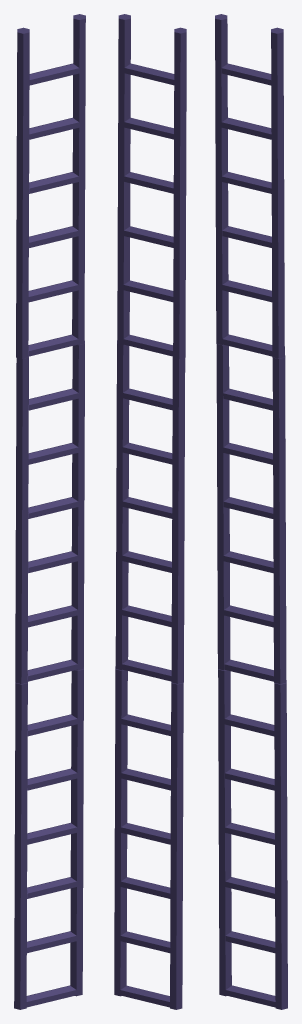
Rendered from LadderLong.fbx.
3 renders of one model, left to right at view 1: azimuth 30°, elevation 25°; view 2: azimuth 150°, elevation 25°; view 3: azimuth 330°, elevation 25°, orthographic.
Parts seen in each view (by area): view 1: ladder_piece(Clone).013, ladder_piece(Clone).008, ladder_piece(Clone).015, ladder_piece(Clone).004, ladder_piece(Clone).005, ladder_piece(Clone).011, ladder_piece(Clone).009, ladder_piece(Clone).016, ladder_piece(Clone).014, ladder_piece(Clone).006, ladder_piece(Clone).007, ladder_piece(Clone).010 (+24 smaller); view 2: ladder_piece(Clone).013, ladder_piece(Clone).012, ladder_piece(Clone).016, ladder_piece(Clone).009, ladder_piece(Clone).005, ladder_piece(Clone).015, ladder_piece(Clone).008, ladder_piece(Clone).011, ladder_piece(Clone).001, ladder_piece(Clone).002, ladder_piece(Clone).007, ladder_piece(Clone).004 (+24 smaller); view 3: ladder_piece(Clone).013, ladder_piece(Clone).001, ladder_piece(Clone).016, ladder_piece(Clone).009, ladder_piece(Clone).012, ladder_piece(Clone).005, ladder_piece(Clone).015, ladder_piece(Clone).011, ladder_piece(Clone).008, ladder_piece(Clone).006, ladder_piece(Clone).010, ladder_piece(Clone).002 (+24 smaller).
Boxes of the visible parts, <box> form: ladder_piece(Clone).013: <box>17,14,85,87</box>; ladder_piece(Clone).008: <box>14,832,83,901</box>; ladder_piece(Clone).015: <box>16,127,85,196</box>; ladder_piece(Clone).004: <box>15,506,84,575</box>; ladder_piece(Clone).005: <box>15,560,84,629</box>; ladder_piece(Clone).011: <box>15,667,83,738</box>; ladder_piece(Clone).009: <box>14,778,83,847</box>; ladder_piece(Clone).016: <box>16,181,85,250</box>; ladder_piece(Clone).014: <box>16,73,85,142</box>; ladder_piece(Clone).006: <box>14,940,82,1009</box>; ladder_piece(Clone).007: <box>14,886,83,955</box>; ladder_piece(Clone).010: <box>15,724,83,792</box>; ladder_piece(Clone).013: <box>118,14,186,87</box>; ladder_piece(Clone).012: <box>115,614,183,683</box>; ladder_piece(Clone).016: <box>117,181,186,250</box>; ladder_piece(Clone).009: <box>114,778,183,847</box>; ladder_piece(Clone).005: <box>116,560,184,629</box>; ladder_piece(Clone).015: <box>118,127,186,196</box>; ladder_piece(Clone).008: <box>114,832,182,901</box>; ladder_piece(Clone).011: <box>115,666,183,738</box>; ladder_piece(Clone).001: <box>116,340,185,412</box>; ladder_piece(Clone).002: <box>116,398,184,466</box>; ladder_piece(Clone).007: <box>114,886,182,955</box>; ladder_piece(Clone).004: <box>116,506,184,575</box>; ladder_piece(Clone).013: <box>215,14,283,87</box>; ladder_piece(Clone).001: <box>216,344,285,412</box>; ladder_piece(Clone).016: <box>215,181,284,250</box>; ladder_piece(Clone).009: <box>218,778,287,847</box>; ladder_piece(Clone).012: <box>217,615,286,683</box>; ladder_piece(Clone).005: <box>217,560,286,629</box>; ladder_piece(Clone).015: <box>215,127,284,196</box>; ladder_piece(Clone).011: <box>218,669,286,738</box>; ladder_piece(Clone).008: <box>218,832,287,901</box>; ladder_piece(Clone).006: <box>219,940,287,1009</box>; ladder_piece(Clone).010: <box>218,724,286,792</box>; ladder_piece(Clone).002: <box>216,398,285,467</box>.
Bounding box in the file's own units: 133 × 1804 × 33.35.
